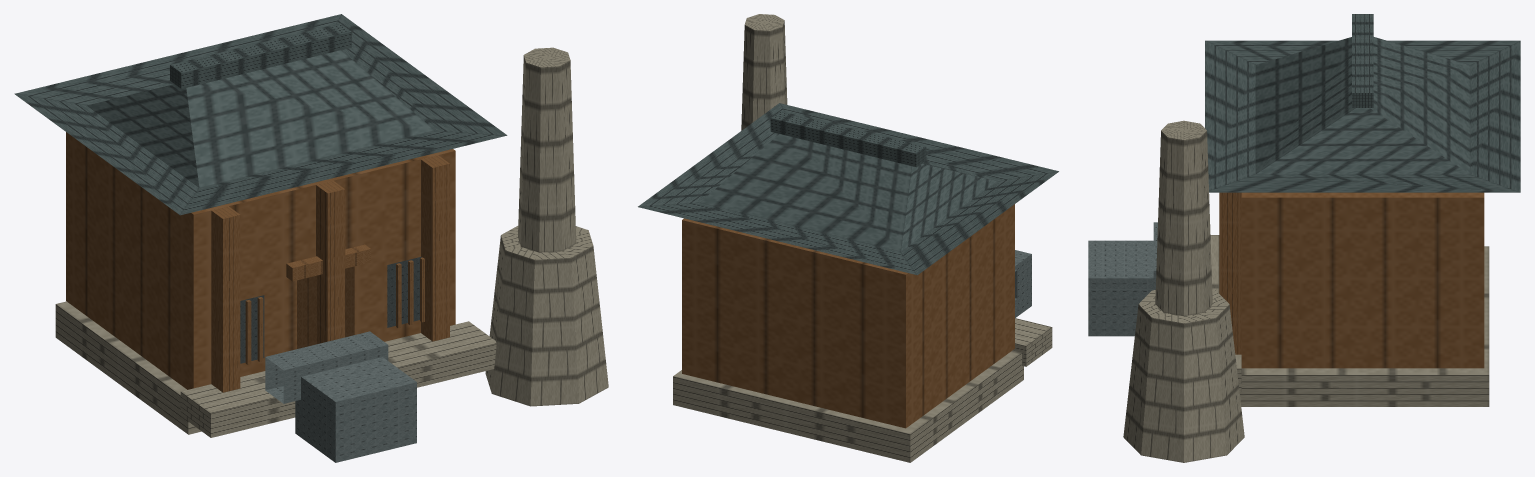
The model's file is domestic-SMITH-1-lod0.glb.
3 renders of one model, left to right at view 1: azimuth 30°, elevation 25°; view 2: azimuth 150°, elevation 25°; view 3: azimuth 270°, elevation 25°, orthographic. The views are drawn at different scales.
Size of the model in its own units: 0.7063 by 0.53 by 0.677.
Materials: 1 (1 with a texture image).
